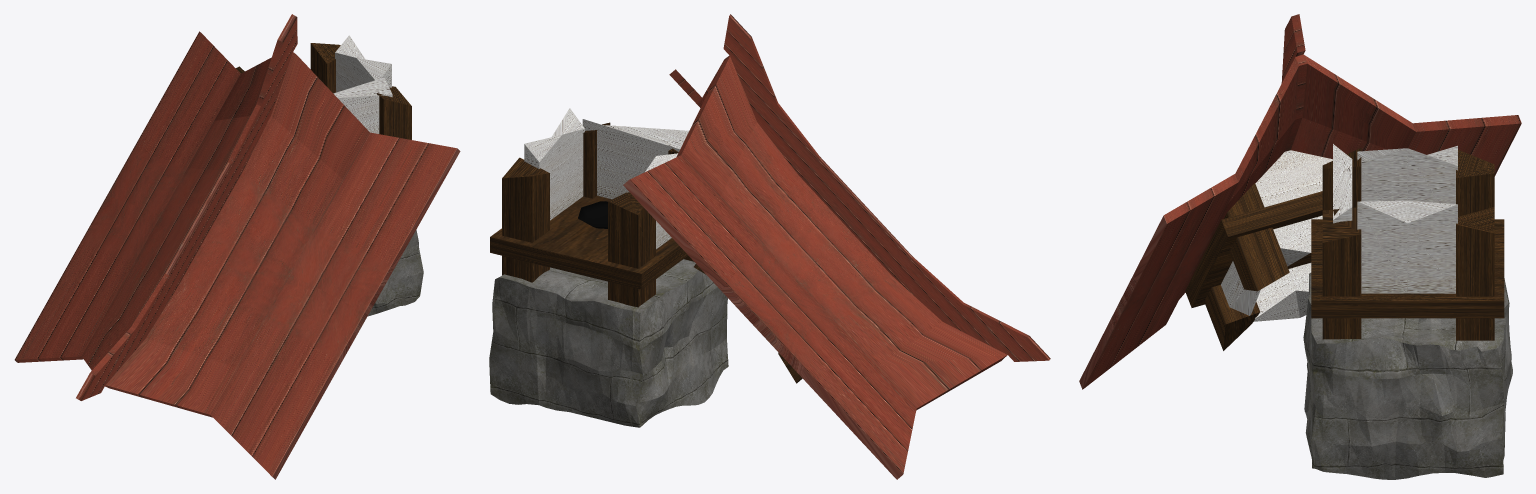
The model's file is 祠破壊.fbx.
The picture shows the model from 3 angles, left to right: view 1: azimuth 30°, elevation 25°; view 2: azimuth 150°, elevation 25°; view 3: azimuth 270°, elevation 25°; orthographic projection. The views are drawn at different scales.
Visible parts, largest first — view 1: 立方体.008, 立方体.004; view 2: 立方体.008, 立方体.004; view 3: 立方体.004, 立方体.008.
Boxes of the visible parts, box(x1,y1,x2,y2) form: 立方体.008: box(14, 14, 460, 479); 立方体.004: box(235, 35, 423, 316); 立方体.008: box(623, 14, 1050, 479); 立方体.004: box(489, 108, 728, 427); 立方体.004: box(1303, 144, 1512, 479); 立方体.008: box(1079, 14, 1521, 389).
Size of the model in its own units: 566 by 501 by 459.
